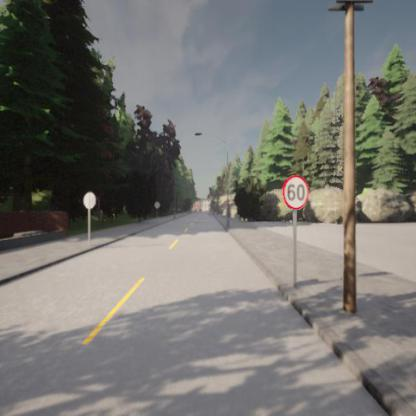traffic_sign_60: (283, 175, 309, 210)
